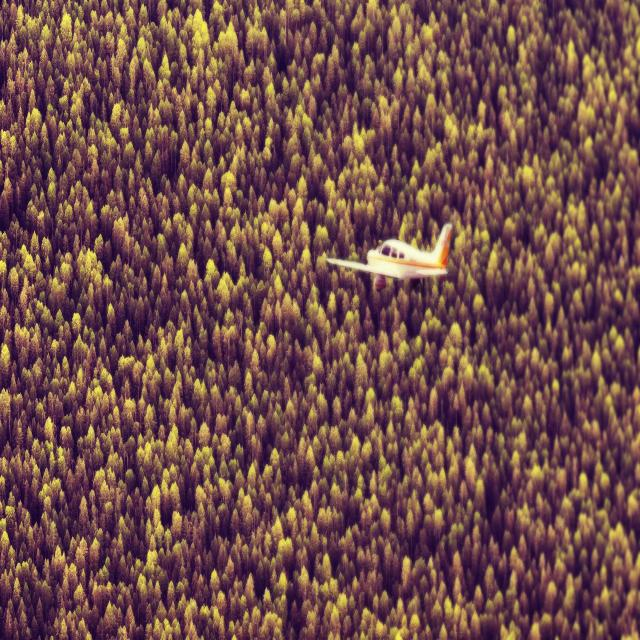airplane: (325, 222, 453, 291)
